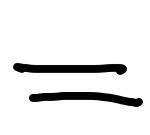eqv: (13, 63, 143, 107)
